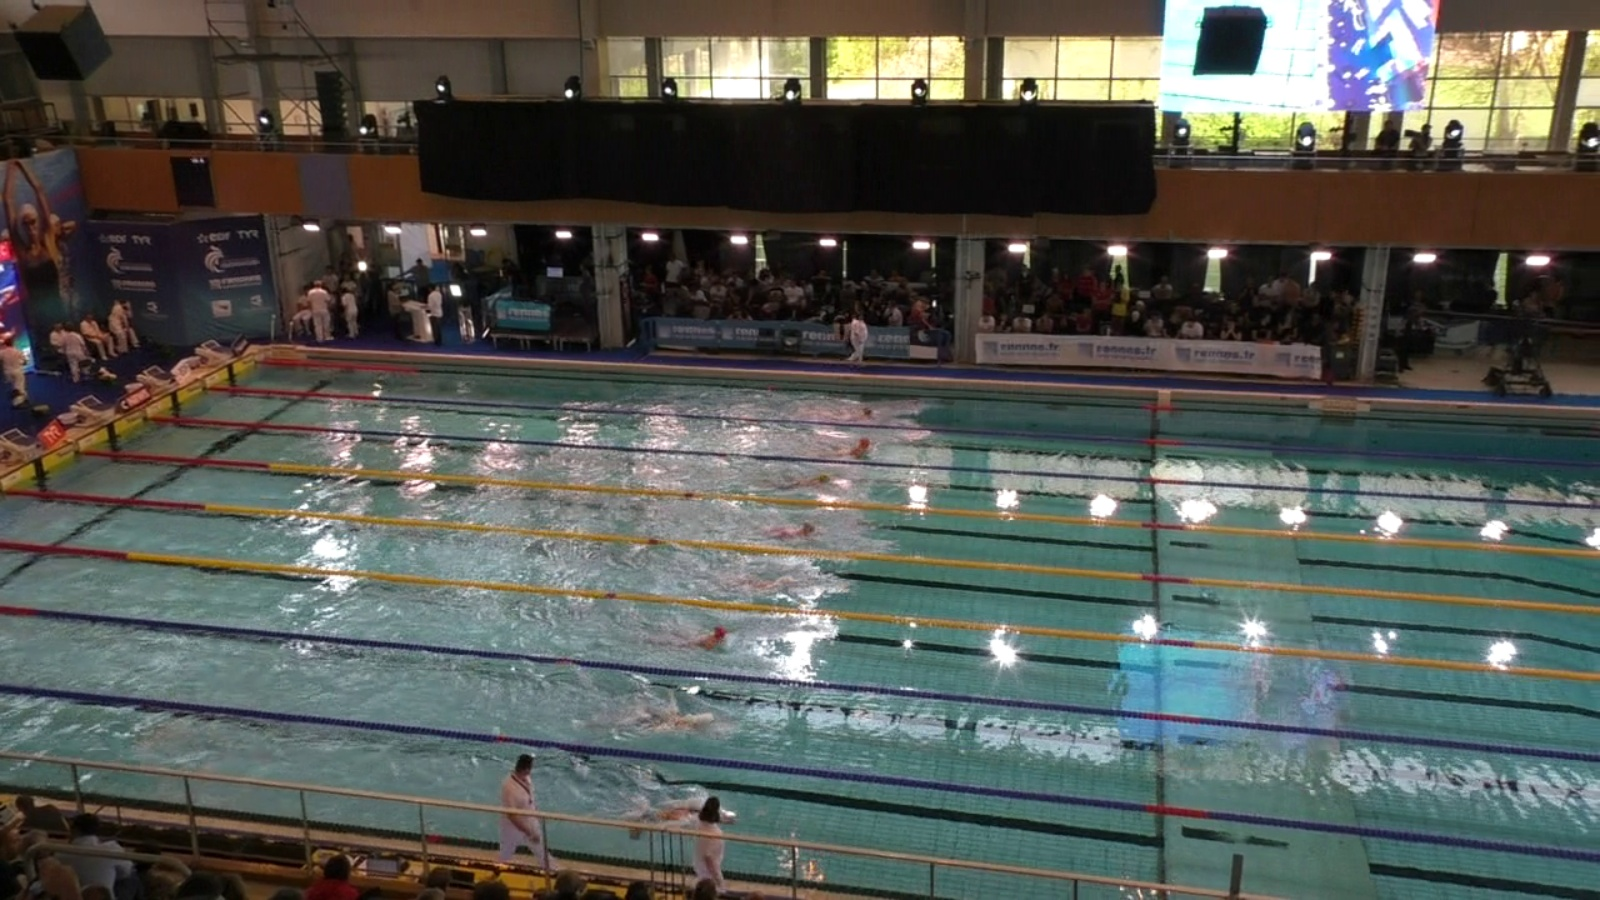swimmerwdd: (626, 797, 747, 852), (633, 707, 729, 751), (625, 627, 731, 653), (707, 571, 818, 591), (738, 520, 826, 540), (797, 404, 889, 421), (766, 475, 841, 493), (811, 438, 882, 456)
